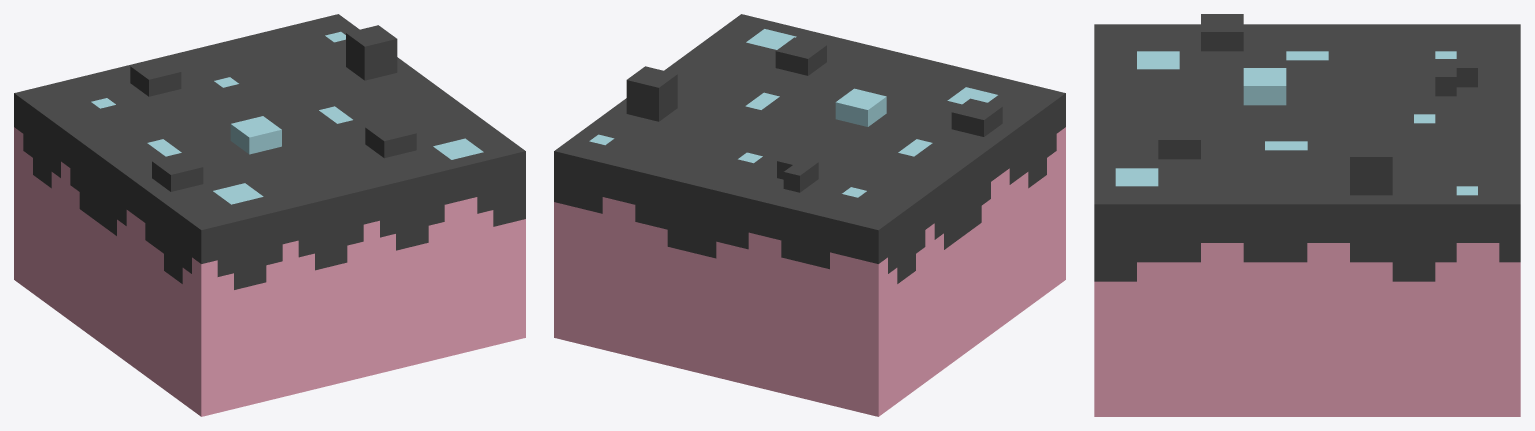
File: GroundSnow.obj
The picture shows the model from 3 angles, left to right: view 1: azimuth 30°, elevation 25°; view 2: azimuth 150°, elevation 25°; view 3: azimuth 270°, elevation 25°; orthographic projection. The views are drawn at different scales.
Size of the model in its own units: 2 by 1.3 by 2.
